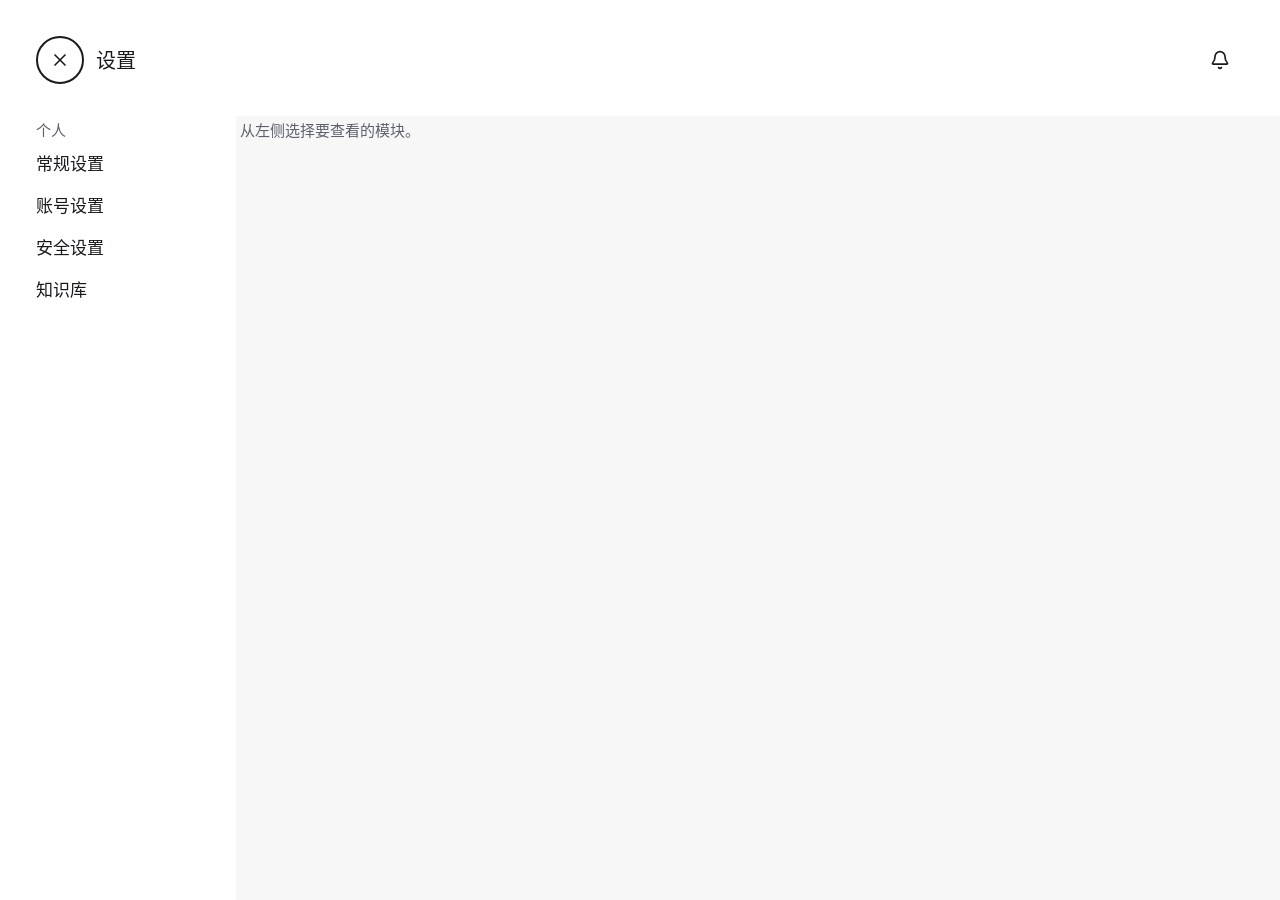
Scenario: 下钻、返回与 Esc 逐层 › 点模块下钻到知识库内容，再经模块内入口下钻到「我的投稿」；返回按钮逐层回退
Click the button "知识库" at [124, 290], box [24,270,224,310]
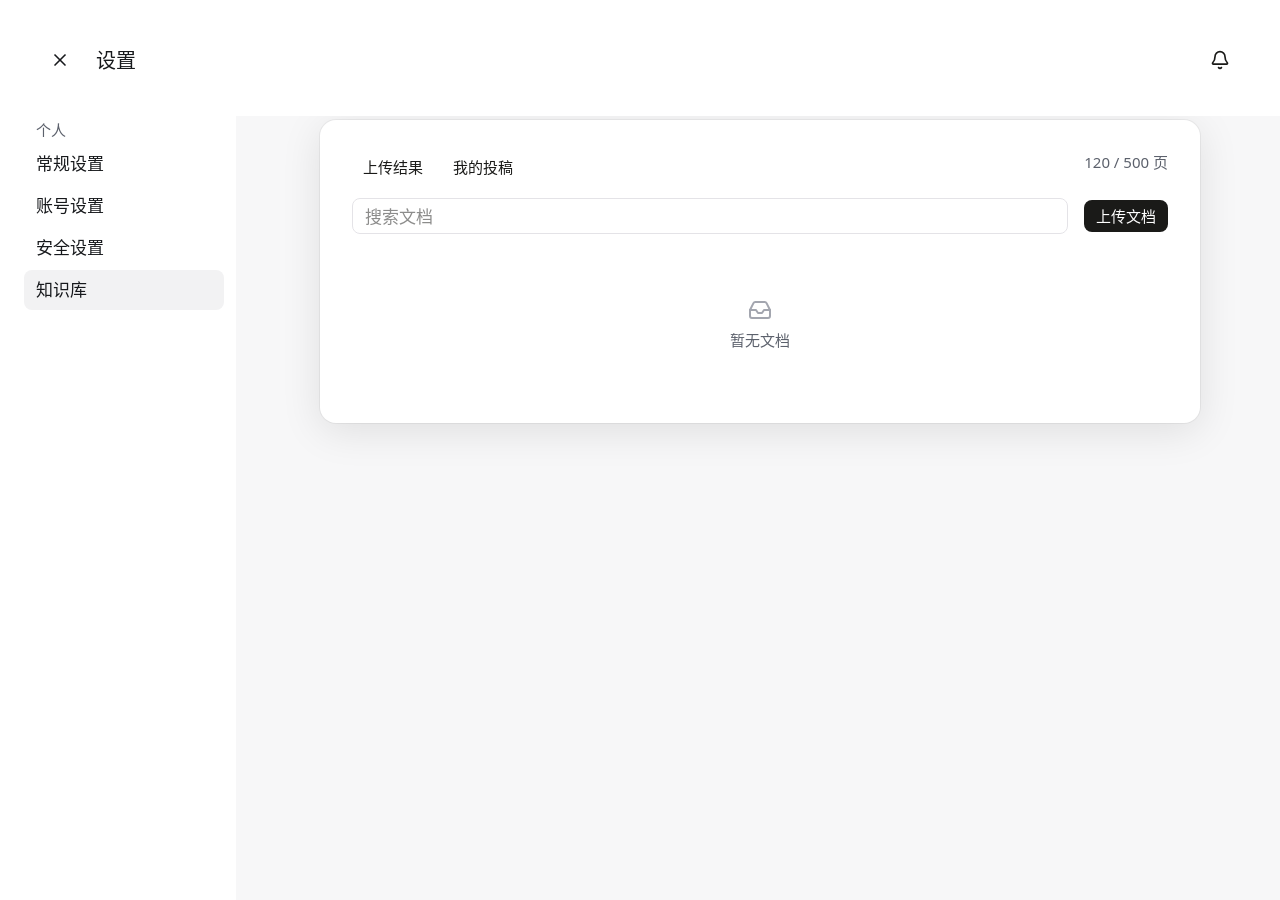
Result: the button "上传结果" is shown at [352,152,434,182]
Result: the text "从左侧选择要查看的模块。" is gone
Click the button "我的投稿" at [483, 167], box [442,152,524,182]
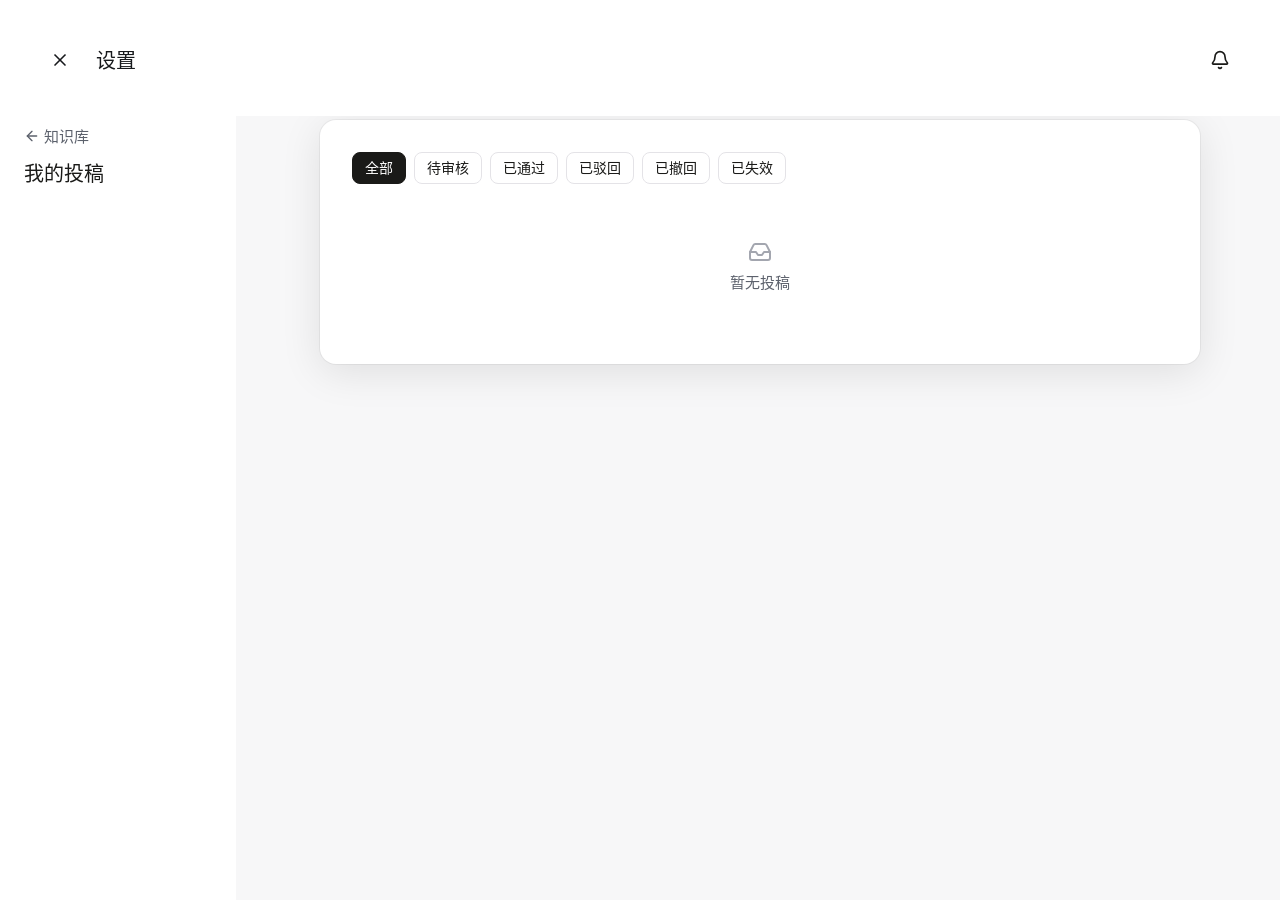
Result: the text "我的投稿" is shown at [24,160,104,187]
Result: the button "上传结果" is gone
// 返回按钮回到知识库层
Click the button "知识库" at [56, 136], box [24,120,89,152]
(page scrolled)
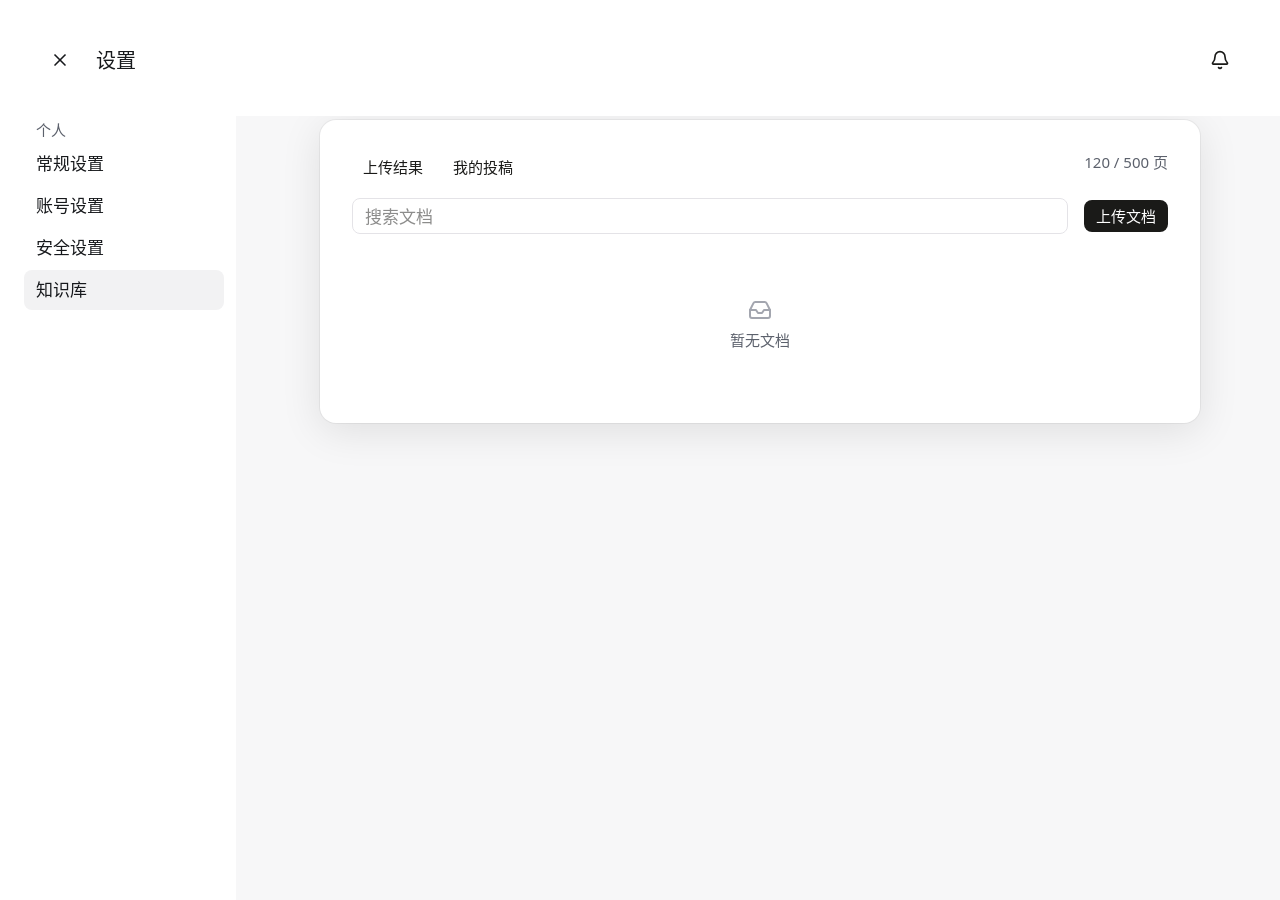
Result: the button "上传结果" is shown at [352,152,434,182]
